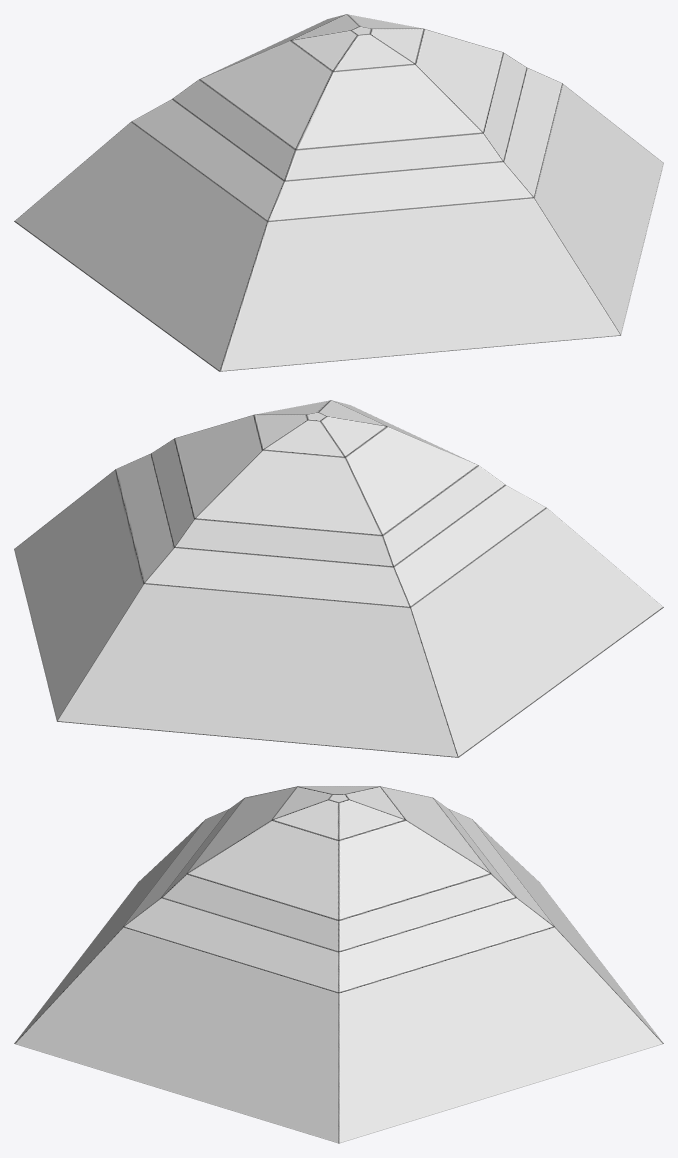
Rendered from colina.fbx.
3 views of the same model, one above another, from view 1: azimuth 30°, elevation 25°; view 2: azimuth 150°, elevation 25°; view 3: azimuth 270°, elevation 25° (orthographic). The views are drawn at different scales.
Visible parts, largest first — view 1: Icosphere; view 2: Icosphere; view 3: Icosphere.
Boxes of the visible parts, x1,y1,x2,y2 form: Icosphere: (14,14,663,371); Icosphere: (14,400,663,757); Icosphere: (14,786,663,1143).
Bounding box in the file's own units: 635 × 228 × 668.
Materials: 1 (1 with a texture image).
